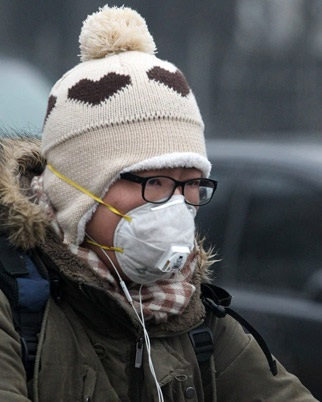face_mask: (100, 137, 200, 279)
